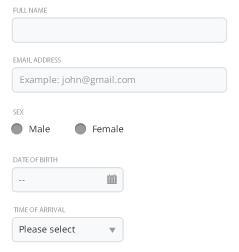dropdown: (13, 218, 125, 243)
input: (13, 19, 228, 45), (14, 68, 228, 93), (14, 169, 125, 192)
label: (9, 205, 70, 216), (12, 154, 64, 166), (12, 55, 65, 65), (11, 5, 49, 16), (93, 125, 130, 136), (28, 123, 53, 137), (12, 106, 33, 117)
radio: (8, 121, 24, 139), (72, 123, 90, 137)
